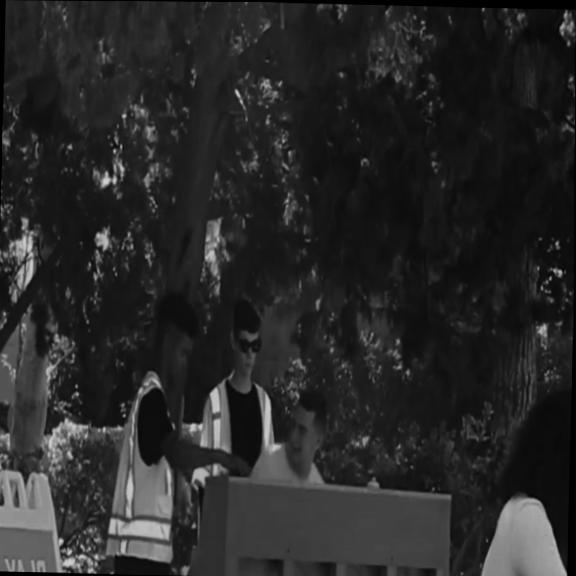safety_vest: (106, 371, 177, 565), (192, 374, 276, 487)
